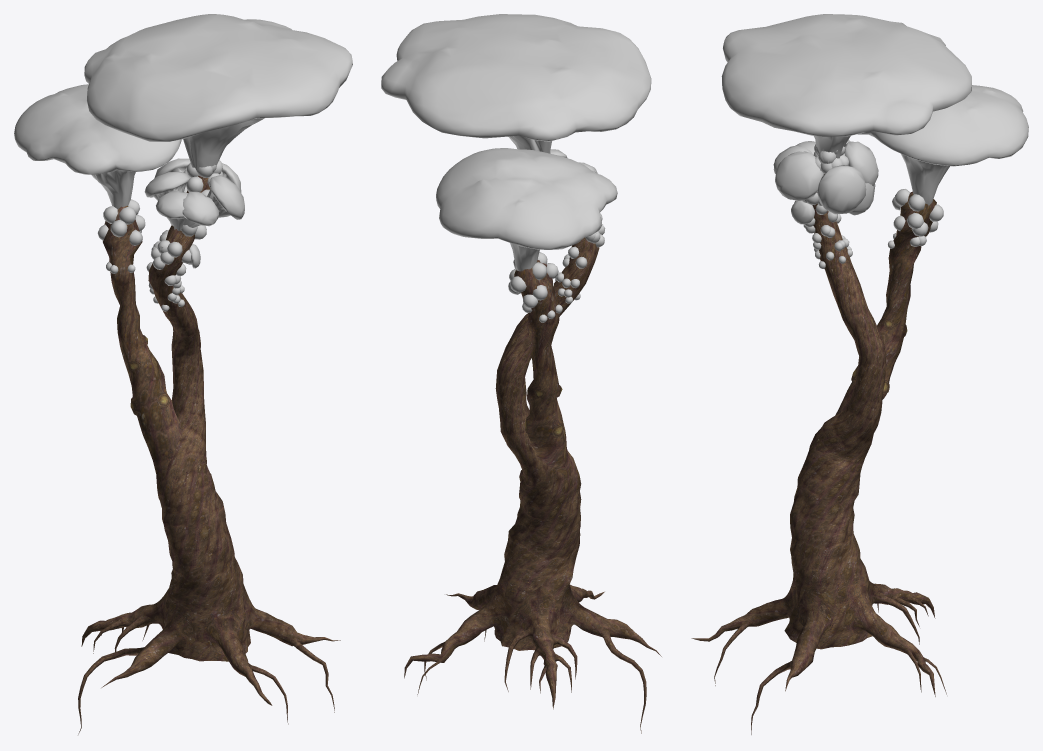
The model's file is Shrooomtree_2.fbx.
3 renders of one model, left to right at view 1: azimuth 30°, elevation 25°; view 2: azimuth 150°, elevation 25°; view 3: azimuth 270°, elevation 25°, orthographic.
Parts seen in each view (by area): view 1: polySurface94; view 2: polySurface94; view 3: polySurface94.
Boxes of the visible parts, <box> form: polySurface94: <box>14,14,352,734</box>; polySurface94: <box>381,14,661,733</box>; polySurface94: <box>691,14,1028,734</box>.
Bounding box in the file's own units: 546 × 1356 × 627.
